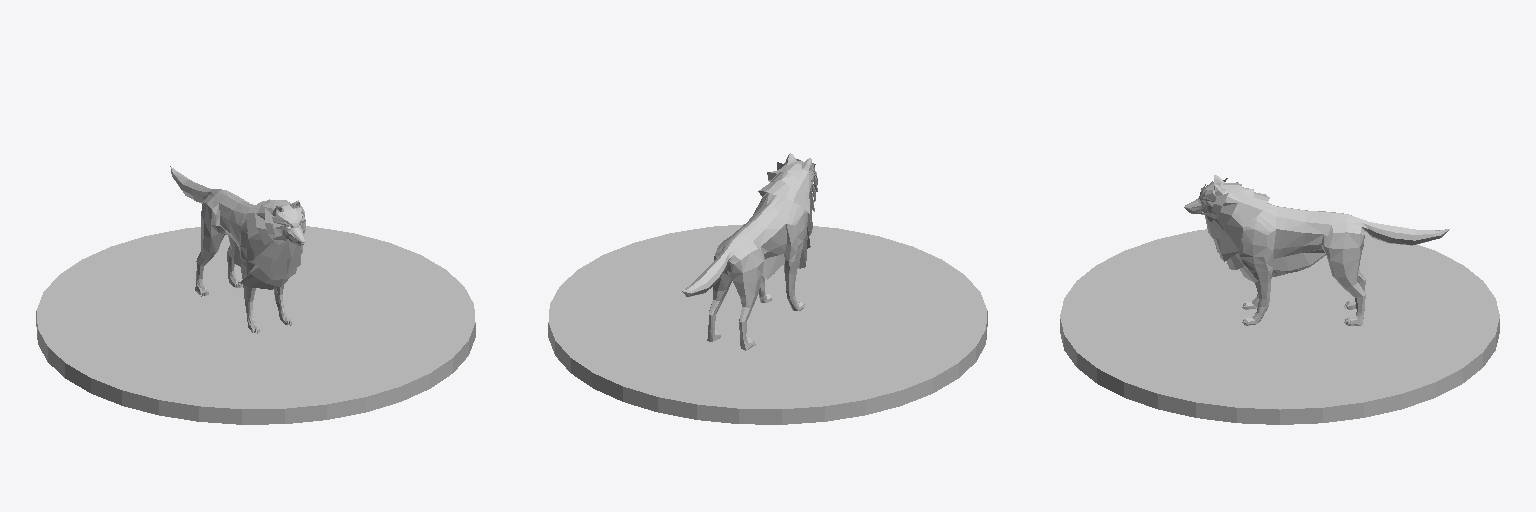
The model's file is Wolf.obj.
3 views of the same model, side by side, from view 1: azimuth 30°, elevation 25°; view 2: azimuth 150°, elevation 25°; view 3: azimuth 270°, elevation 25° (orthographic).
Visible parts, largest first — view 1: Circle, Wolf1_Material__wolf_col_tga_0, Wolf2_fur__fella3_jpg_001_0_Wolf2_fur__fella3_jpg_001_0.001; view 2: Circle, Wolf1_Material__wolf_col_tga_0, Wolf2_fur__fella3_jpg_001_0_Wolf2_fur__fella3_jpg_001_0.001; view 3: Circle, Wolf1_Material__wolf_col_tga_0, Wolf2_fur__fella3_jpg_001_0_Wolf2_fur__fella3_jpg_001_0.001.
Boxes of the visible parts, x1,y1,x2,y2 form: Circle: [36, 226, 475, 424]; Wolf1_Material__wolf_col_tga_0: [170, 166, 304, 333]; Wolf2_fur__fella3_jpg_001_0_Wolf2_fur__fella3_jpg_001_0.001: [229, 199, 305, 289]; Circle: [548, 224, 987, 424]; Wolf1_Material__wolf_col_tga_0: [682, 153, 816, 350]; Wolf2_fur__fella3_jpg_001_0_Wolf2_fur__fella3_jpg_001_0.001: [758, 159, 817, 279]; Circle: [1060, 229, 1499, 424]; Wolf1_Material__wolf_col_tga_0: [1184, 175, 1449, 325]; Wolf2_fur__fella3_jpg_001_0_Wolf2_fur__fella3_jpg_001_0.001: [1200, 178, 1325, 282].
Size of the model in its own units: 1.69 by 0.6442 by 1.69.